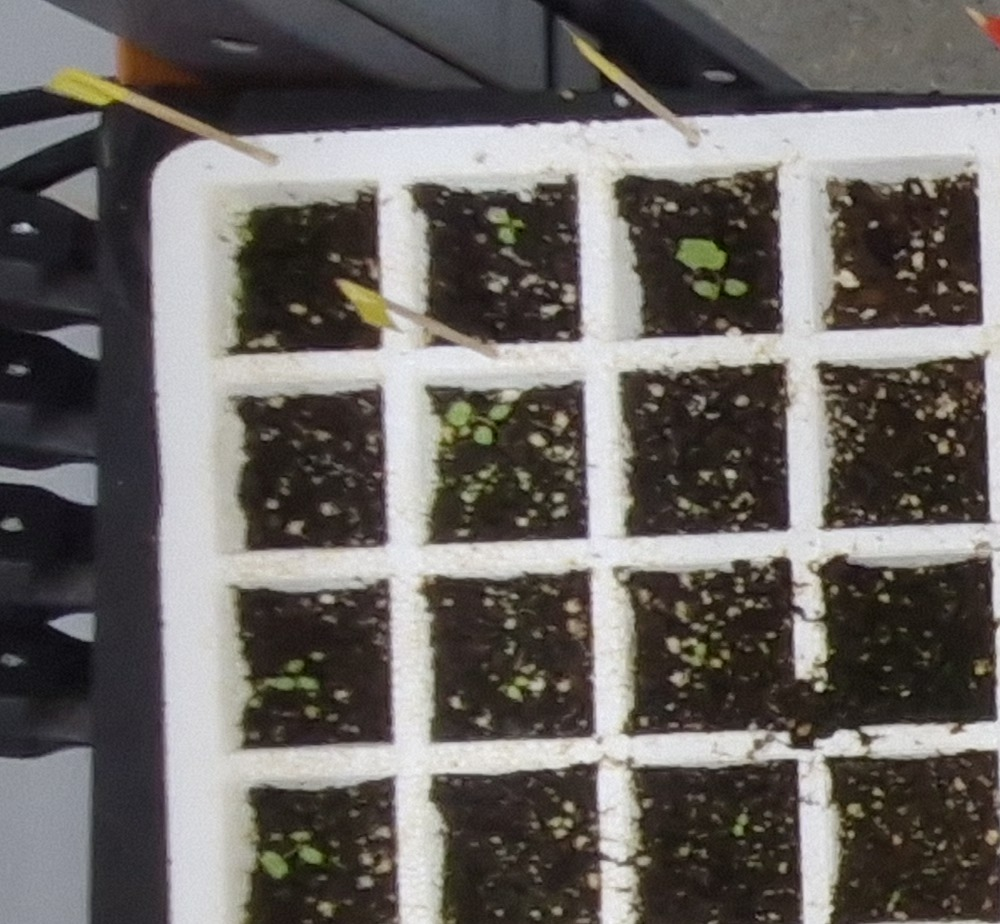Folha: (677, 241, 726, 270), (259, 851, 289, 877), (448, 401, 471, 425), (692, 281, 720, 299), (299, 844, 323, 864), (487, 206, 511, 223), (725, 279, 748, 296), (488, 403, 510, 419), (474, 427, 492, 444), (498, 227, 517, 243), (298, 676, 319, 690), (276, 677, 296, 691), (287, 660, 304, 673), (290, 832, 311, 841), (737, 813, 749, 825), (733, 823, 743, 836)
Germinacao: (675, 240, 749, 299), (258, 829, 324, 879), (445, 399, 512, 445), (488, 206, 525, 244), (276, 659, 319, 691), (733, 814, 748, 836)
